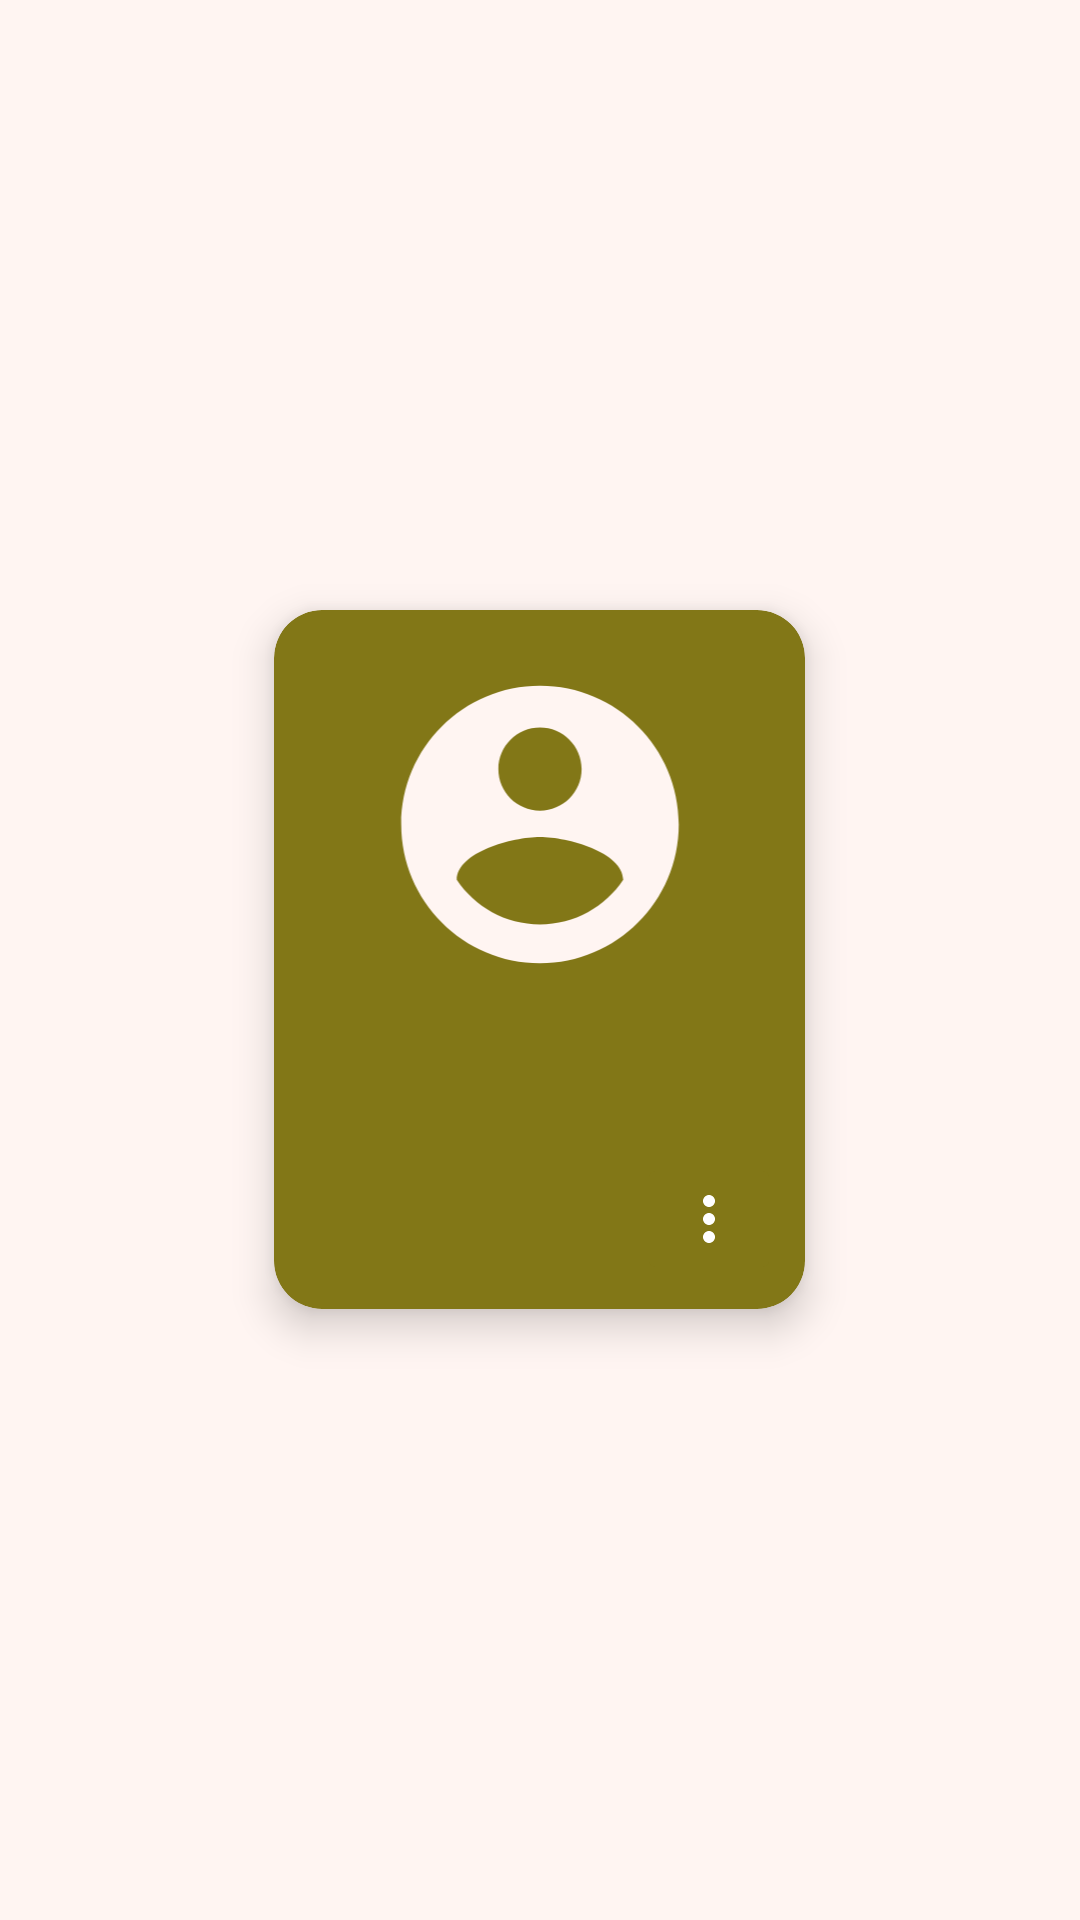

Point at icon controls on the screen. Image size 1080px×1920px, points as point (x, y).
profile: point (540, 824)
vertical menu: point (709, 1219)
